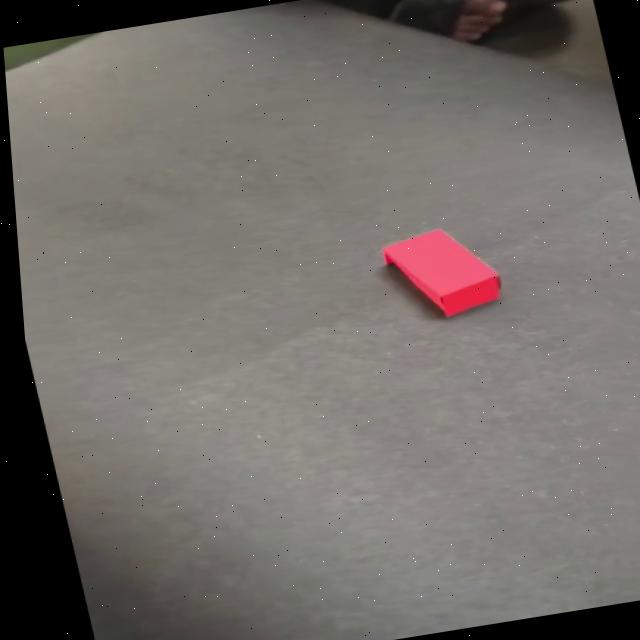red block: (375, 218, 509, 324)
